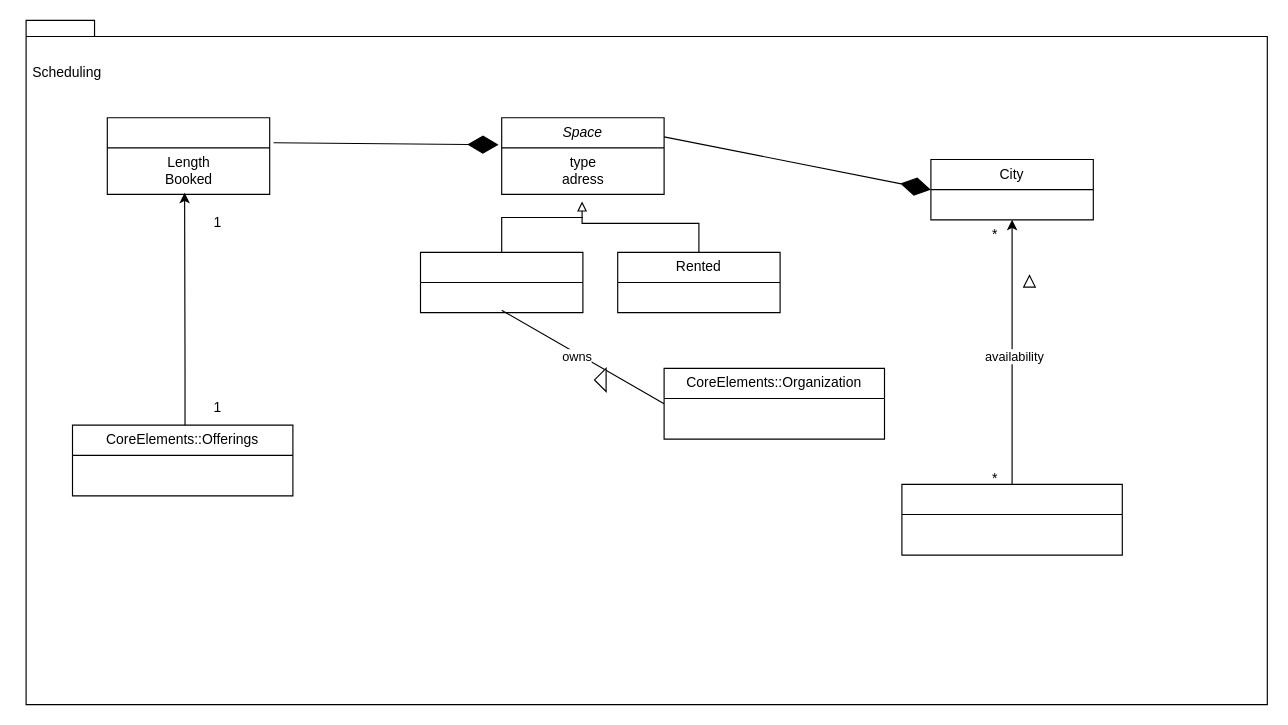
The diagram is 1288 pixels wide and 725 high, and some of its shapes have lost their labels. The box of each missing label's shape, as (x1, y1, x2, y2) in pixels:
CoreElements::Instructor: (901, 483, 1122, 555)
Owned: (419, 251, 583, 313)
TimeSlot: (106, 117, 270, 194)
